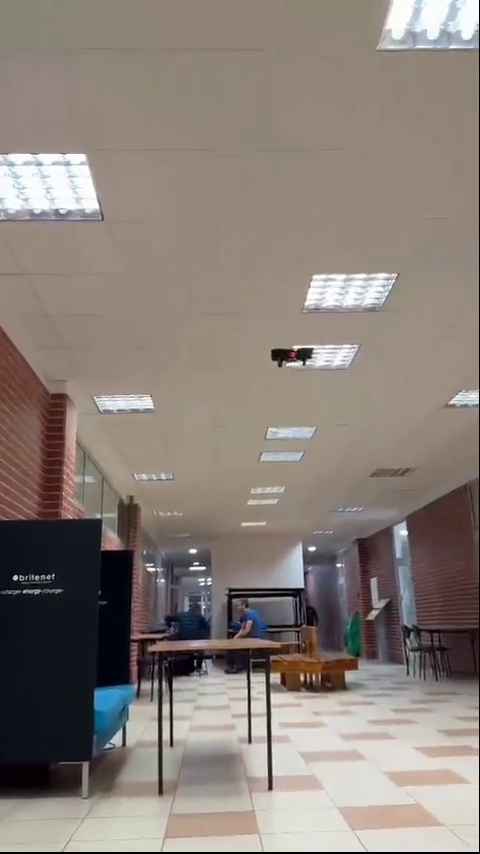drone: (271, 345, 317, 368)
no vest: (170, 599, 212, 641), (231, 590, 265, 634)
